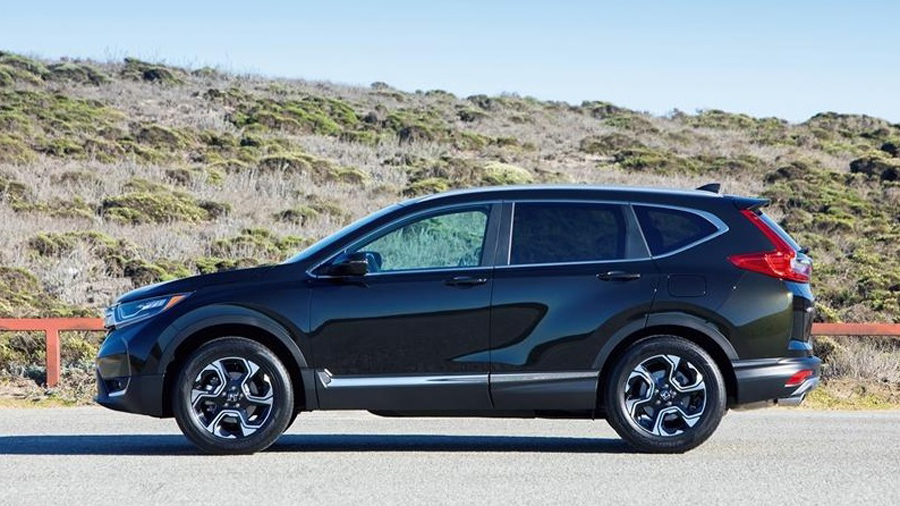pickup: (92, 181, 822, 467)
